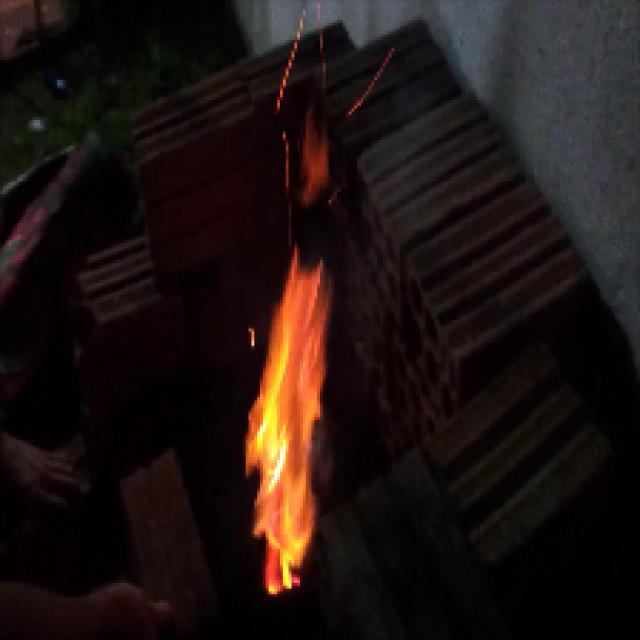fire: (252, 262, 336, 593)
